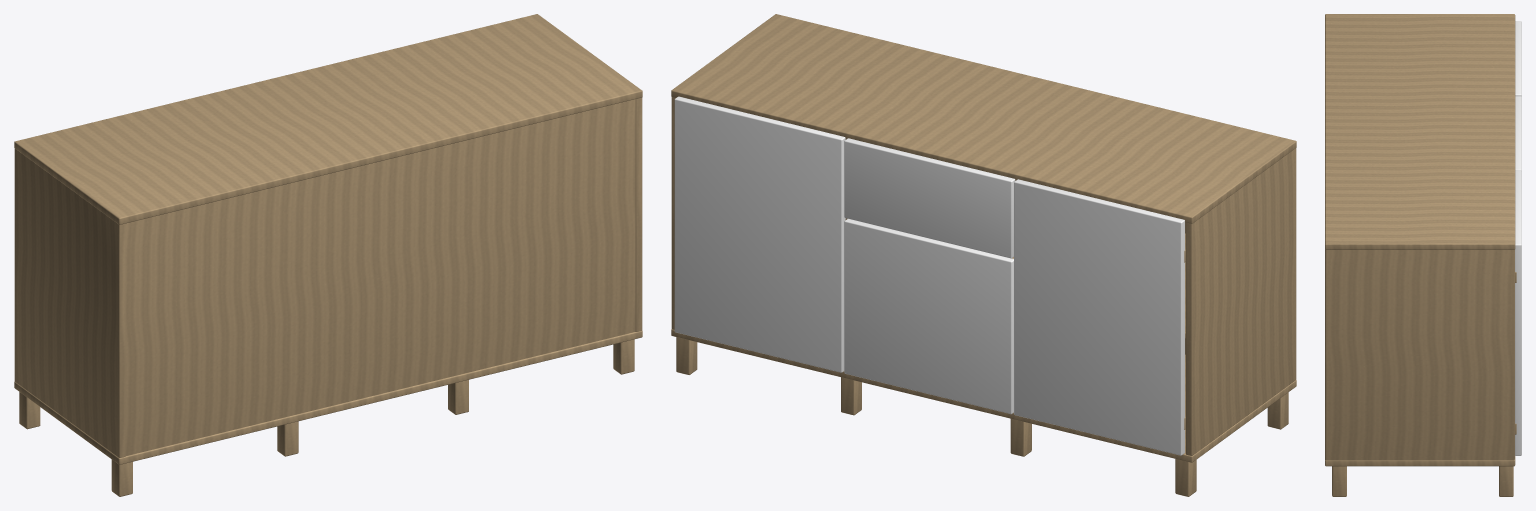
File: sideboard-oak-white.glb
3 renders of one model, left to right at view 1: azimuth 30°, elevation 25°; view 2: azimuth 150°, elevation 25°; view 3: azimuth 270°, elevation 25°, orthographic. The views are drawn at different scales.
Parts seen in each view (by area): view 1: Houseit sideboard-oak-white; view 2: Houseit sideboard-oak-white; view 3: Houseit sideboard-oak-white.
Boxes of the visible parts, <box> form: Houseit sideboard-oak-white: <box>14,14,642,496</box>; Houseit sideboard-oak-white: <box>671,14,1296,496</box>; Houseit sideboard-oak-white: <box>1325,14,1521,496</box>.
Size of the model in its own units: 1.55 by 0.8 by 0.559.
Materials: 2 (1 with a texture image).
